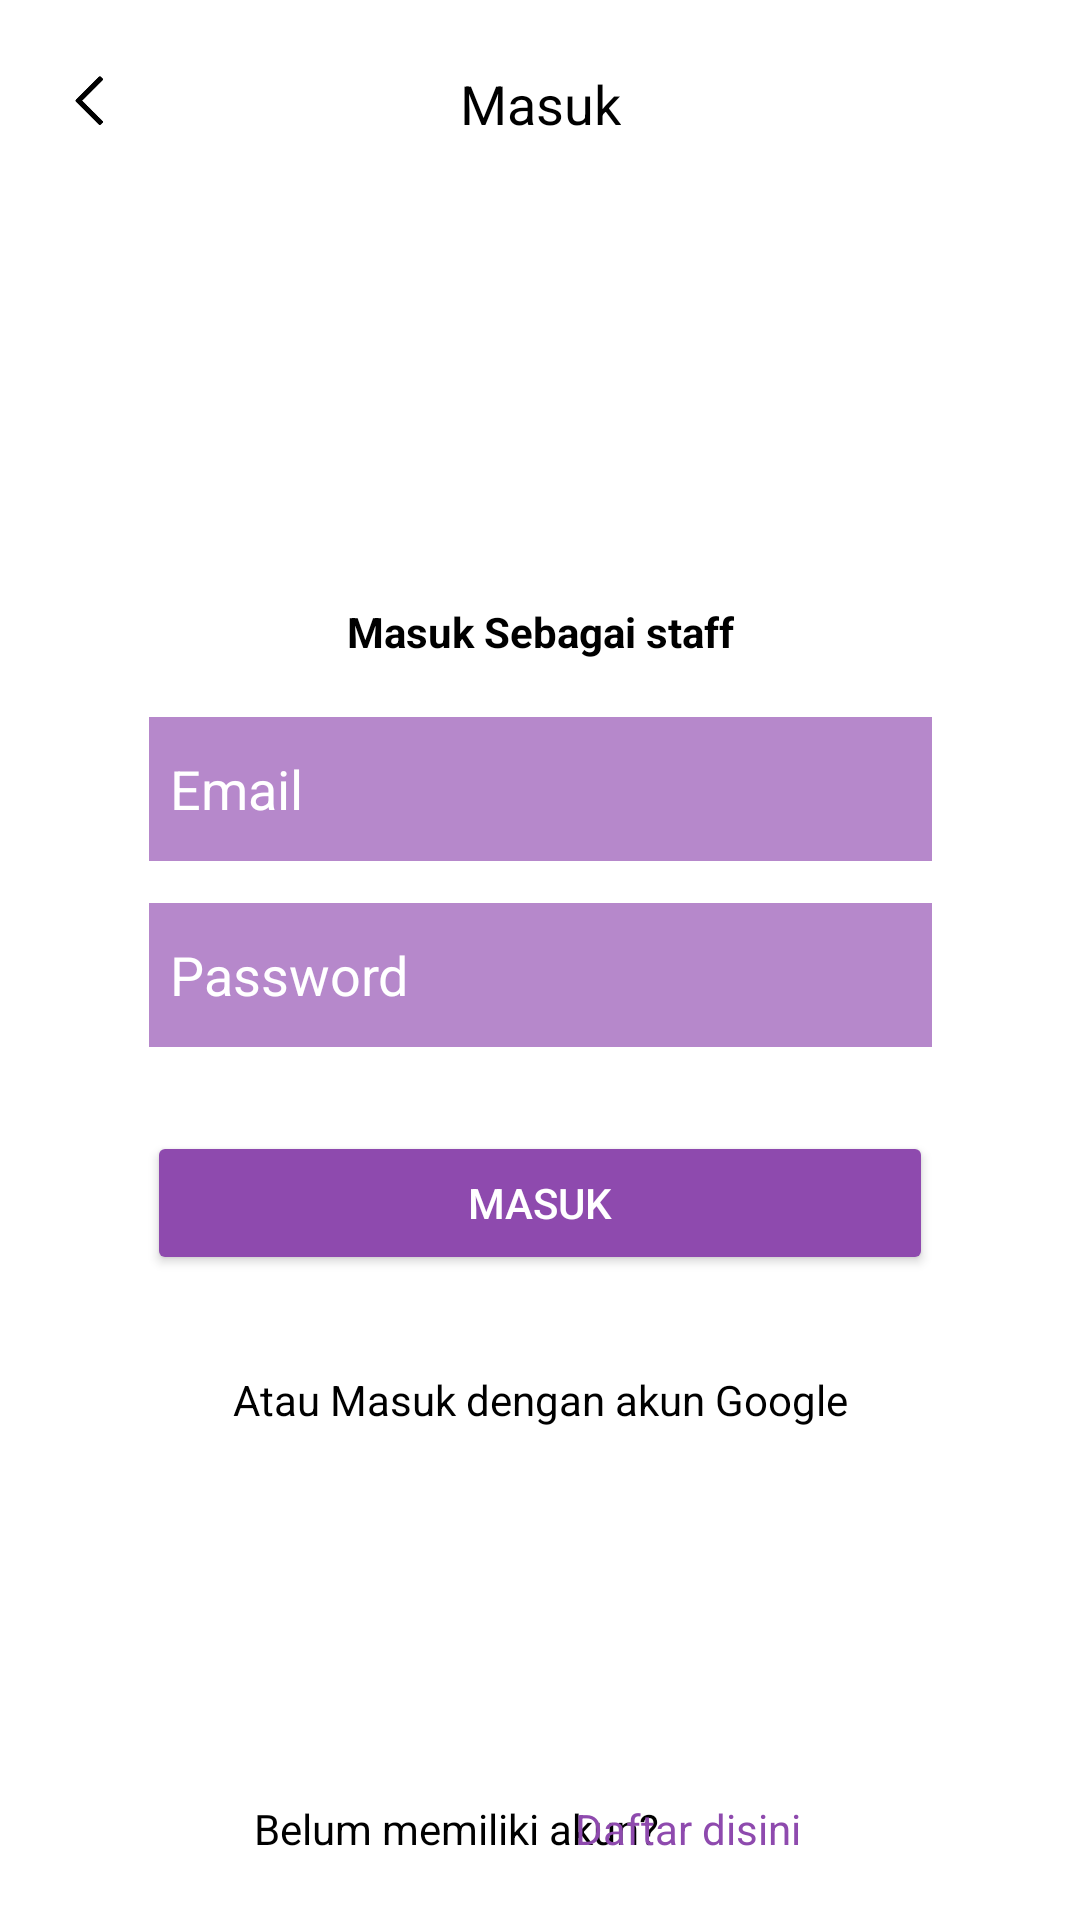

Where icons sit on this 1080x1920 app screen, as (x1, y1, x2, y2):
back: (75, 76, 103, 125)
